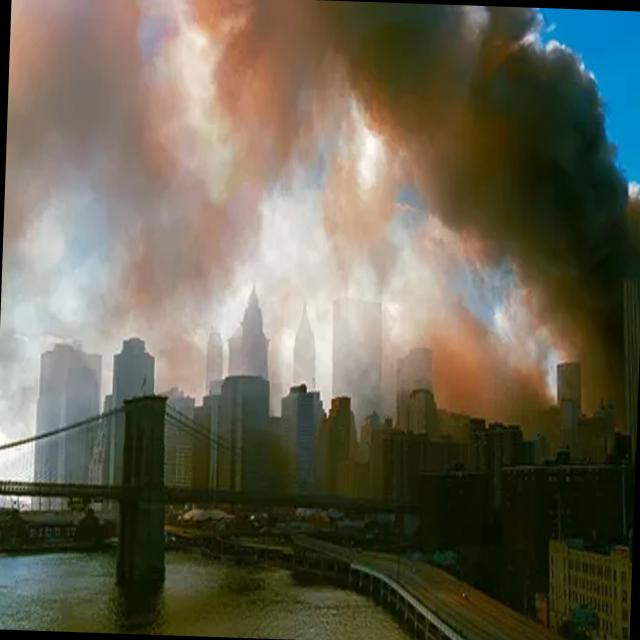Smoke: (0, 0, 637, 423)
